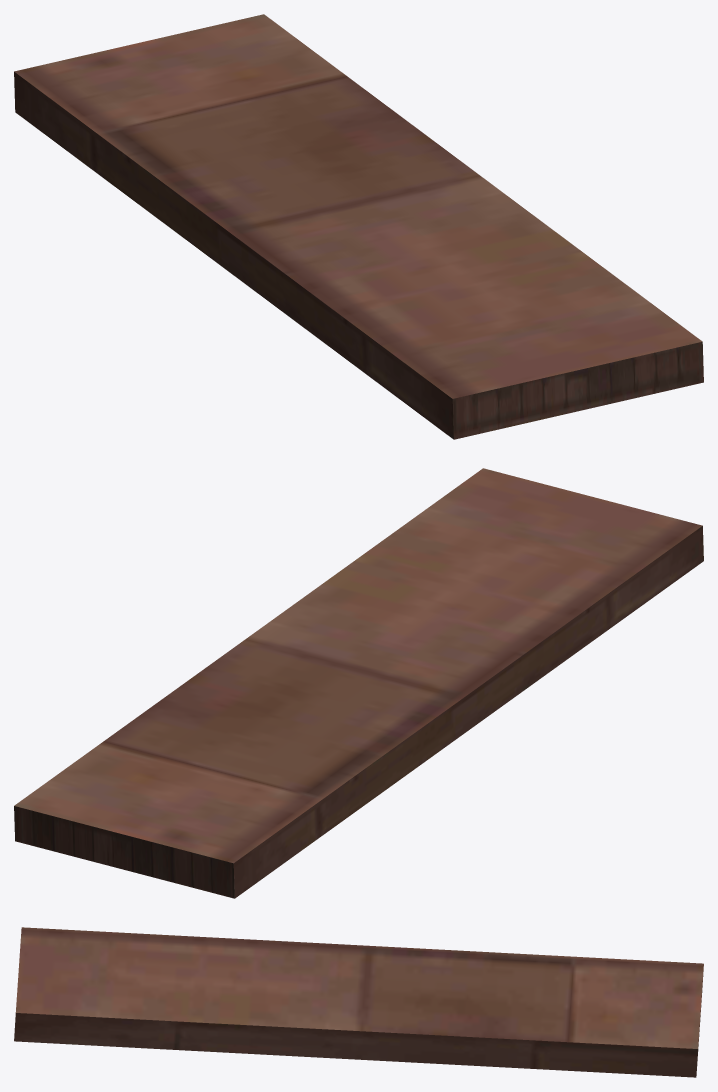
Rendered from woodBlock2 (32).fbx.
3 renders of one model, top to bottom at view 1: azimuth 30°, elevation 25°; view 2: azimuth 150°, elevation 25°; view 3: azimuth 270°, elevation 25°, orthographic. The views are drawn at different scales.
Visible parts, largest first — view 1: woodBlock2 (32); view 2: woodBlock2 (32); view 3: woodBlock2 (32).
Part boxes in pixels (x1,y1,x2,y2): woodBlock2 (32): [14, 14, 703, 439]; woodBlock2 (32): [14, 468, 703, 898]; woodBlock2 (32): [14, 927, 703, 1077].
Bounding box in the file's own units: 15.92 × 3.84 × 46.74.
